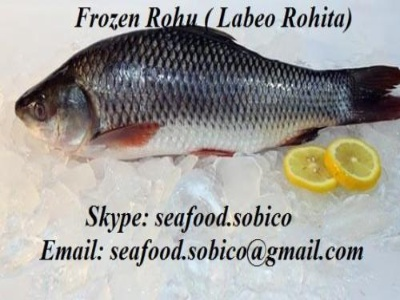rohu: (8, 23, 397, 167)
